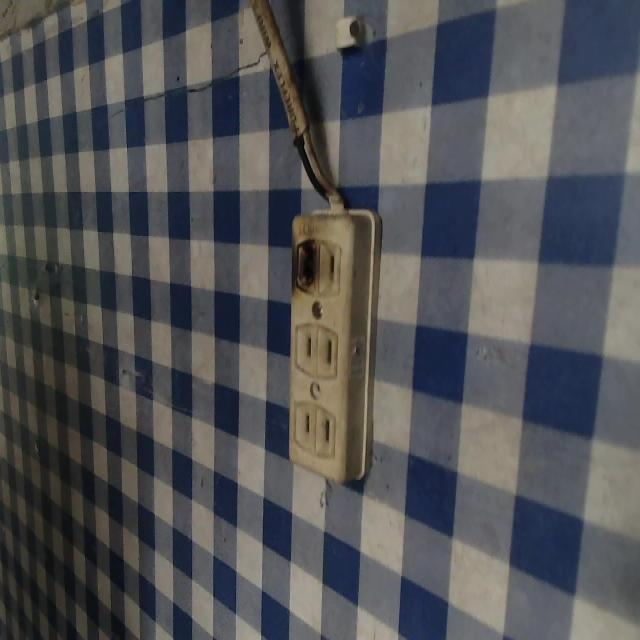-: (289, 233, 319, 296)
